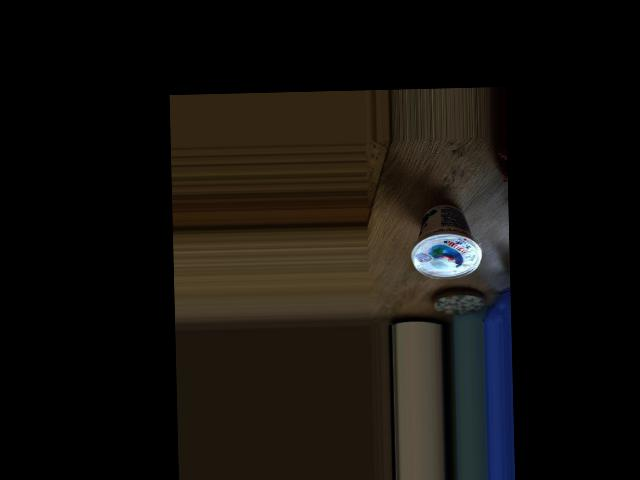cotage: (407, 192, 470, 282)
